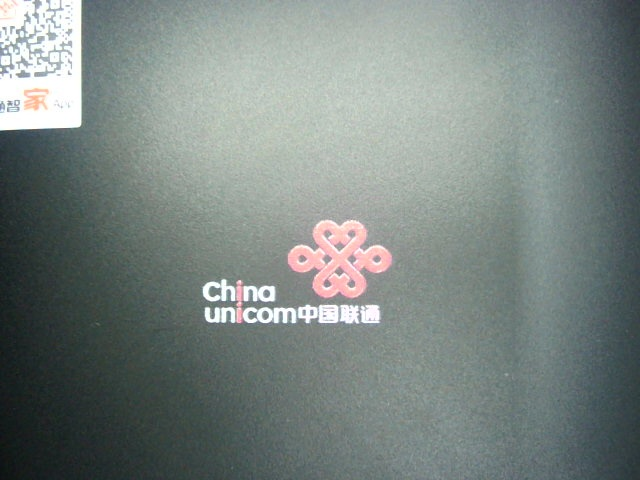AC_ChinaUnicom: (193, 215, 405, 333)
